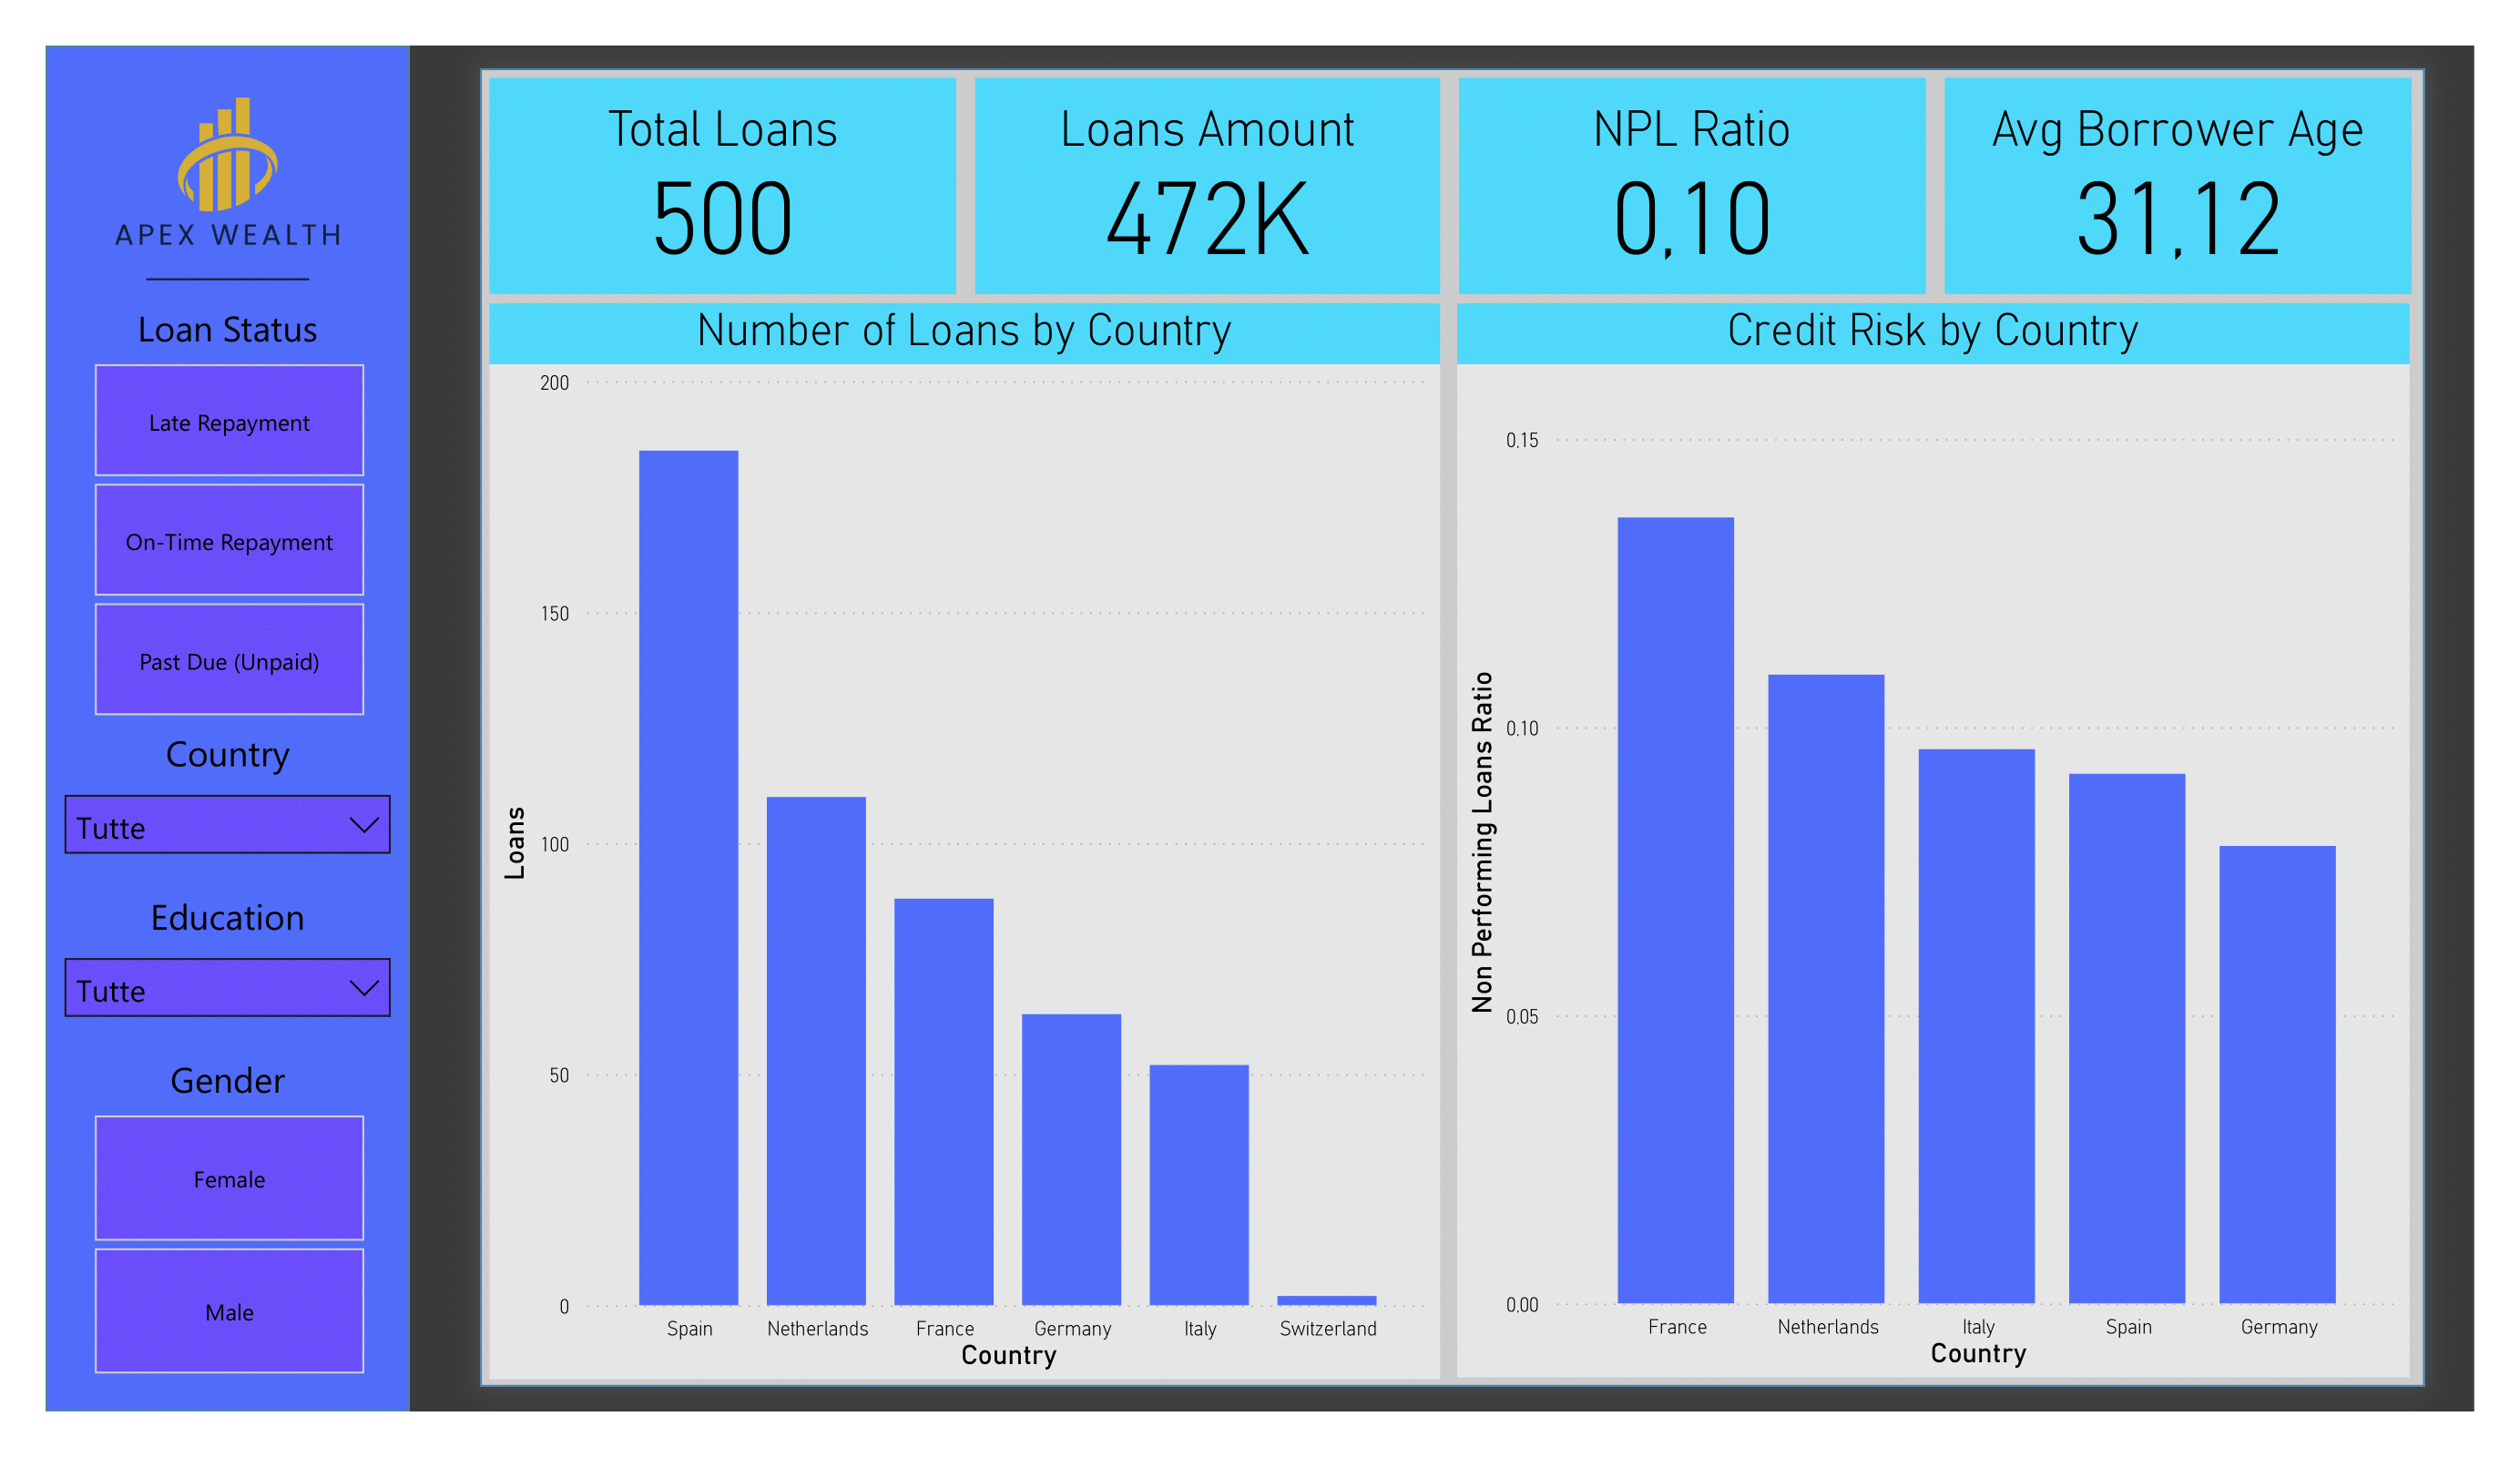

Layout of this report page (visuals, bound fields, positions):
{"tool":"powerbi","page":{"name":"Pagina 3","canvas":[1280,720],"ordinal":2},"visuals":[{"type":"shape","box":[229.2,12.2,1024.4,694.8],"z":0},{"type":"shape","box":[0,0,192,720.1],"z":1000},{"type":"cardVisual","fields":{"Data":["public loan_analysis_view.Total Loans"]},"box":[229.2,12.2,255.6,123.7],"z":2000},{"type":"cardVisual","fields":{"Data":["public loan_analysis_view.Total Loans Amount"]},"box":[484.8,12.2,255.6,123.7],"z":3000},{"type":"cardVisual","fields":{"Data":["public loan_analysis_view.Average Borrower Age"]},"box":[996,12.2,255.6,123.7],"z":4000},{"type":"cardVisual","fields":{"Data":["public loan_analysis_view.Non Performing Loans Ratio"]},"box":[740.4,12.2,255.6,123.7],"z":5000},{"type":"slicer","title":"Loan Status","fields":{"Values":["public loan_analysis_view.Loan Status Label"]},"box":[0,135.9,191.7,224.2],"z":6000},{"type":"slicer","title":"Country","fields":{"Values":["public loan_analysis_view.country"]},"box":[0,360.1,191.7,86.2],"z":7000},{"type":"slicer","title":"Education","fields":{"Values":["public loan_analysis_view.education"]},"box":[0,446.3,191.7,86.2],"z":8000},{"type":"slicer","title":"Gender","fields":{"Values":["public loan_analysis_view.gender"]},"box":[0,532.5,191.7,174.5],"z":9000},{"type":"clusteredColumnChart","title":"Number of Loans by Country","fields":{"Category":["public loan_analysis_view.country"],"Y":["CountNonNull(public loan_analysis_view.loan_id)"]},"box":[233.5,136.2,501.6,566.5],"z":10000},{"type":"clusteredColumnChart","title":"Credit Risk by Country","fields":{"Y":["public loan_analysis_view.Non Performing Loans Ratio"],"Category":["public loan_analysis_view.country"]},"box":[744.3,136.1,502.1,566],"z":11000},{"type":"image","box":[0,0,192,136],"z":11001}]}

Visuals, with their boxes on the page's 1280x720 design canvas (x1, y1, x2, y2). These are canvas units, not pixel positions in the 2520x1457 screenshot, which may show the page scaled, cropped or inside an application window:
shape: 229, 12, 1254, 707
shape: 0, 0, 192, 720
cardVisual - public loan_analysis_view.Total Loans: 229, 12, 485, 136
cardVisual - public loan_analysis_view.Total Loans Amount: 485, 12, 740, 136
cardVisual - public loan_analysis_view.Average Borrower Age: 996, 12, 1252, 136
cardVisual - public loan_analysis_view.Non Performing Loans Ratio: 740, 12, 996, 136
"Loan Status" slicer: 0, 136, 192, 360
"Country" slicer: 0, 360, 192, 446
"Education" slicer: 0, 446, 192, 532
"Gender" slicer: 0, 532, 192, 707
"Number of Loans by Country" clusteredColumnChart: 234, 136, 735, 703
"Credit Risk by Country" clusteredColumnChart: 744, 136, 1246, 702
image: 0, 0, 192, 136
